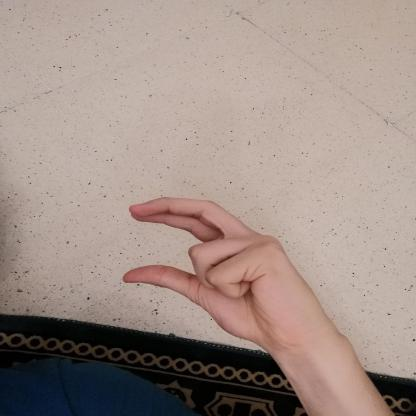DHELL: (109, 190, 341, 357)
